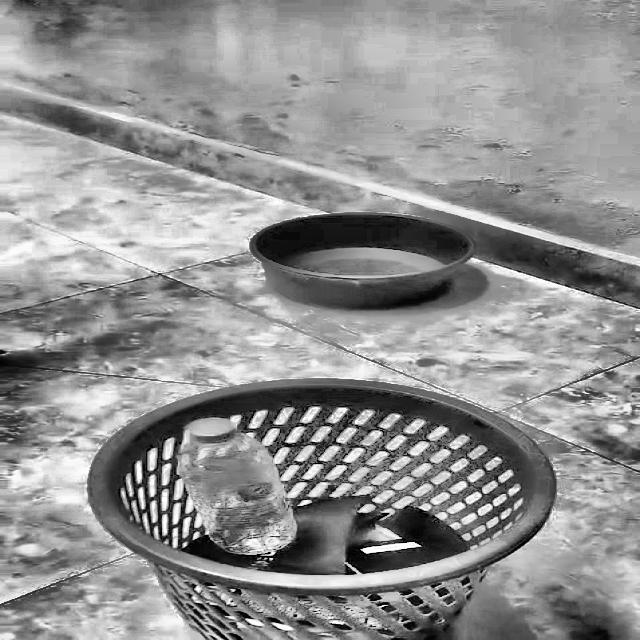Bottle-Disposed: (120, 387, 548, 569)
Plastic-Bottle: (182, 408, 316, 558)
